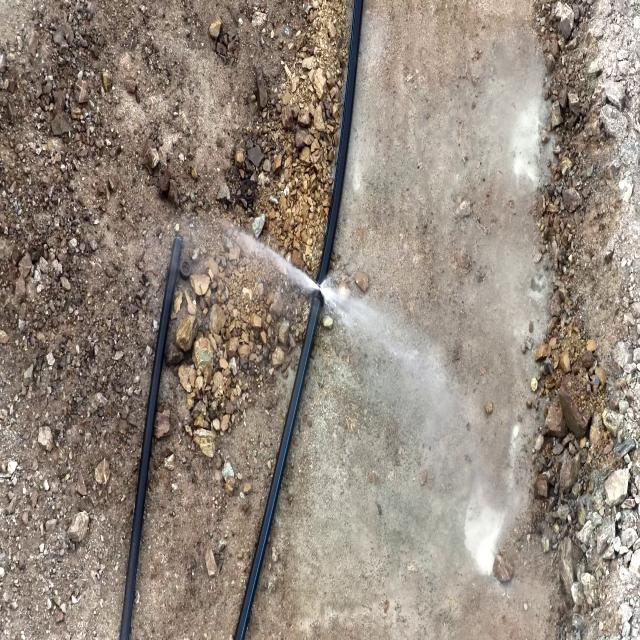leak: (221, 214, 392, 341)
